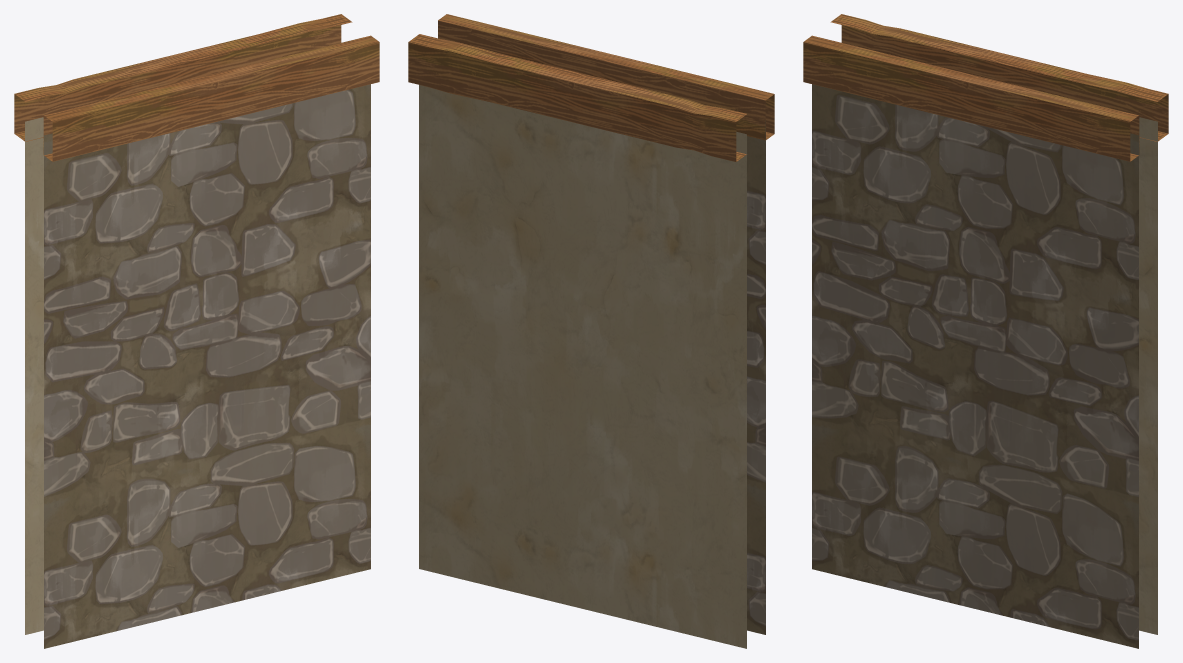
Rendered from Wall_UnevenBrick_Straight.glb.
The picture shows the model from 3 angles, left to right: view 1: azimuth 30°, elevation 25°; view 2: azimuth 150°, elevation 25°; view 3: azimuth 330°, elevation 25°; orthographic projection.
Visible parts, largest first — view 1: Wall_UnevenBrick_Straight; view 2: Wall_UnevenBrick_Straight; view 3: Wall_UnevenBrick_Straight.
Boxes of the visible parts, <box> form: Wall_UnevenBrick_Straight: <box>14,14,379,648</box>; Wall_UnevenBrick_Straight: <box>408,14,774,648</box>; Wall_UnevenBrick_Straight: <box>803,14,1168,648</box>.
Bounding box in the file's own units: 2 × 3.12 × 0.4065.
3 materials, 3 textured.
